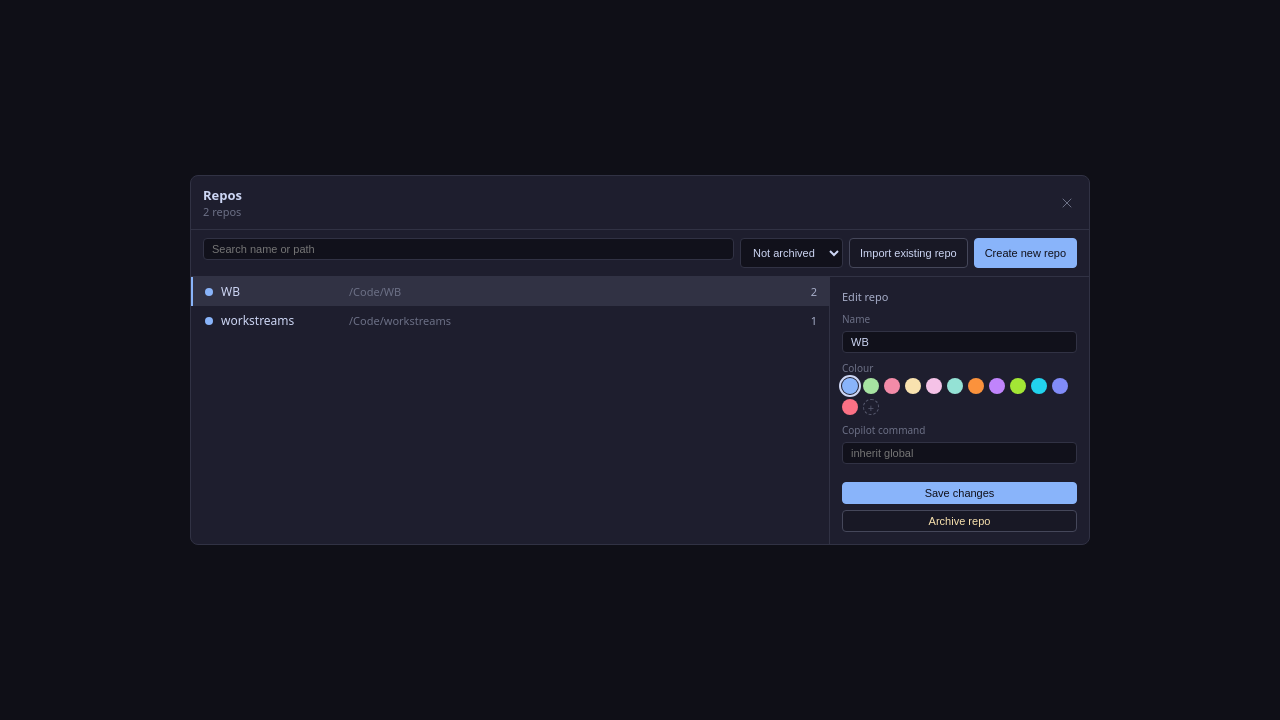
Test: RepoManagerModal › filters by name and by directory
Type "workstr" into the field with test id "repo-manager-search" at x=469, y=249, box [203,238,734,260]
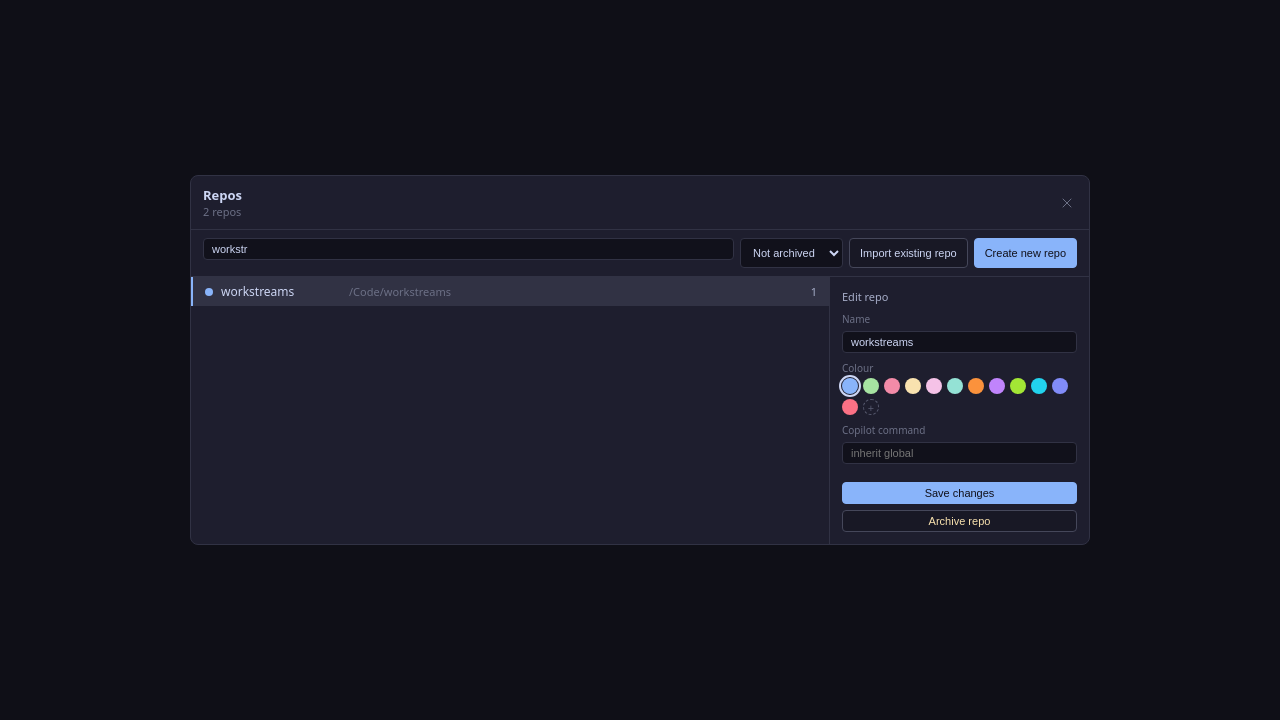
Expected: the button with test id "repo-manager-row-p2" is shown, [191,277,829,306]
Expected: the button with test id "repo-manager-row-p1" is gone
Replace the text in the field with test id "repo-manager-search" with "/Code/WB" at x=469, y=249, box [203,238,734,260]
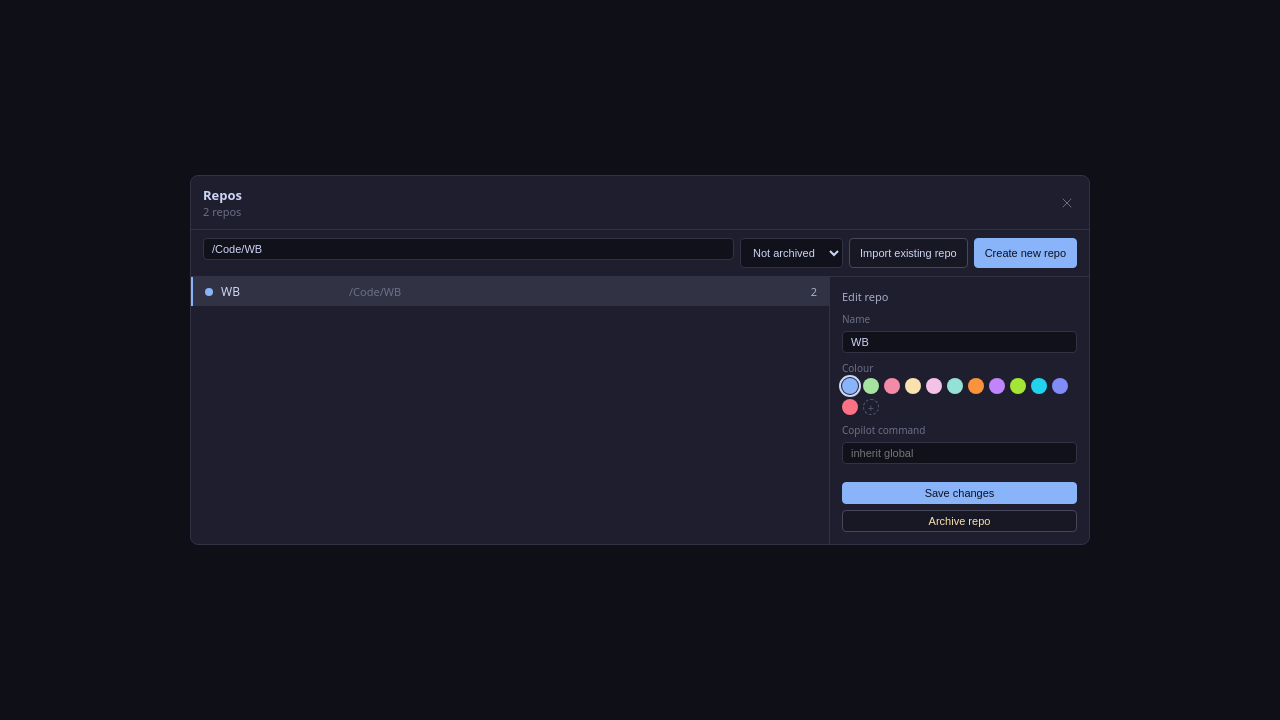
Expected: the button with test id "repo-manager-row-p1" is shown, [191,277,829,306]
Expected: the button with test id "repo-manager-row-p2" is gone
